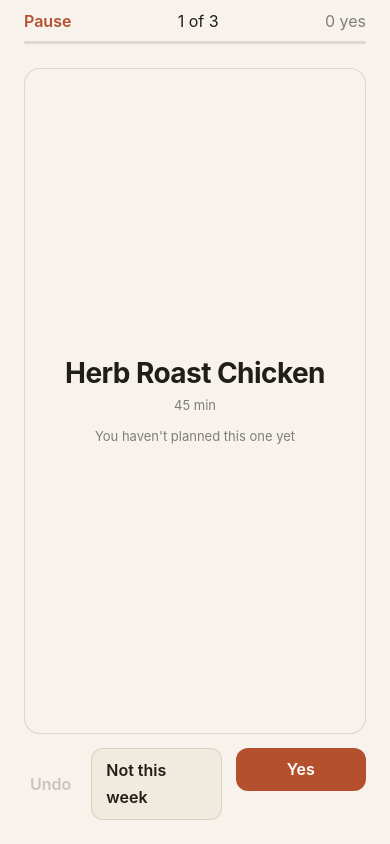
Test case: Not this week advances the card, records a 'no' decision, and shows the passed banner
expect the text "Herb Roast Chicken" is shown: met, box [65,356,325,390]
Click the button with test id "swipe-deck-no" at (156, 784), box [91,748,222,820]
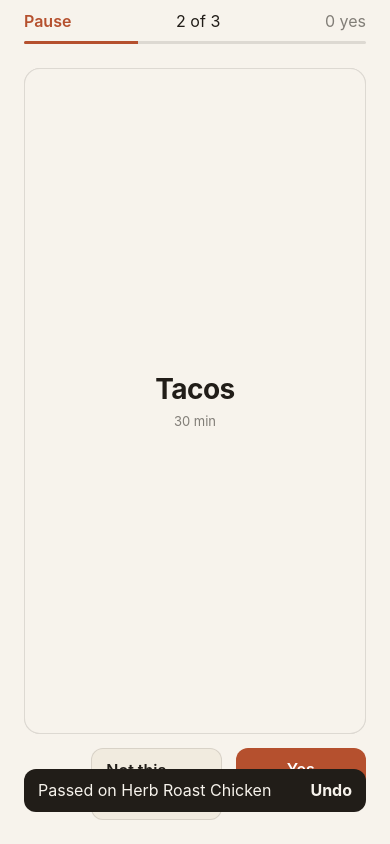
expect the text "0 yes" is shown: met, box [325,8,366,35]
expect the text "Tacos" is shown: met, box [155,372,235,406]
expect the text "Passed on Herb Roast Chicken" is shown: met, box [38,777,296,804]
